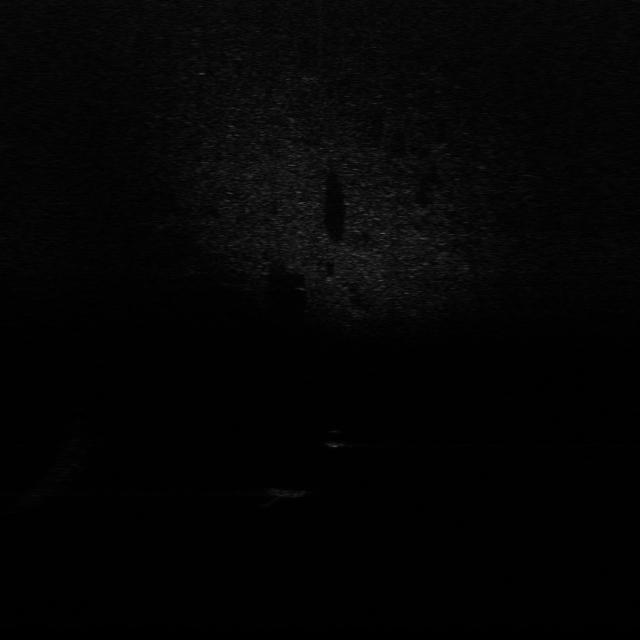ball: (314, 424, 354, 451)
square cage: (264, 485, 316, 500)
